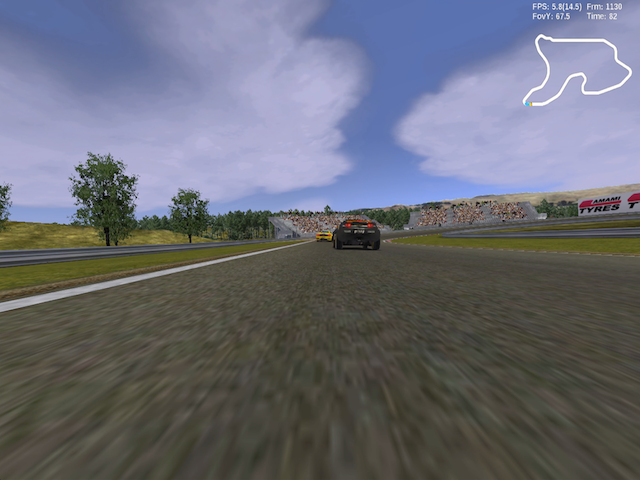Cavallo360: (316, 231, 332, 242)
Spirit300: (332, 220, 381, 250)
